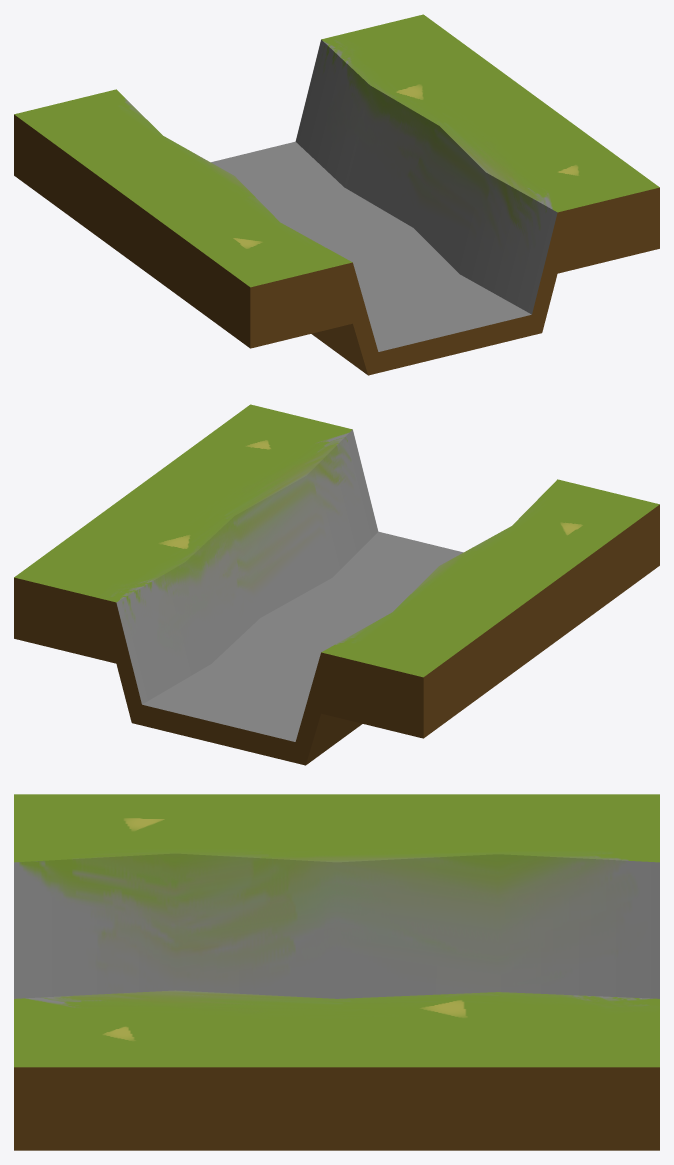
The model's file is river.fbx.
The picture shows the model from 3 angles, top to bottom: view 1: azimuth 30°, elevation 25°; view 2: azimuth 150°, elevation 25°; view 3: azimuth 270°, elevation 25°; orthographic projection. The views are drawn at different scales.
Parts seen in each view (by area): view 1: River; view 2: River; view 3: River.
Boxes of the visible parts, <box> form: River: <box>14,14,659,375</box>; River: <box>14,404,659,765</box>; River: <box>14,794,659,1150</box>.
Bounding box in the file's own units: 200 × 54.54 × 200.
1 material, 1 textured.
